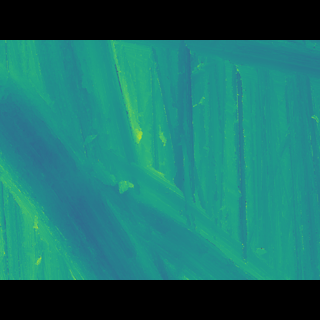Loch: (0, 86, 287, 250)
